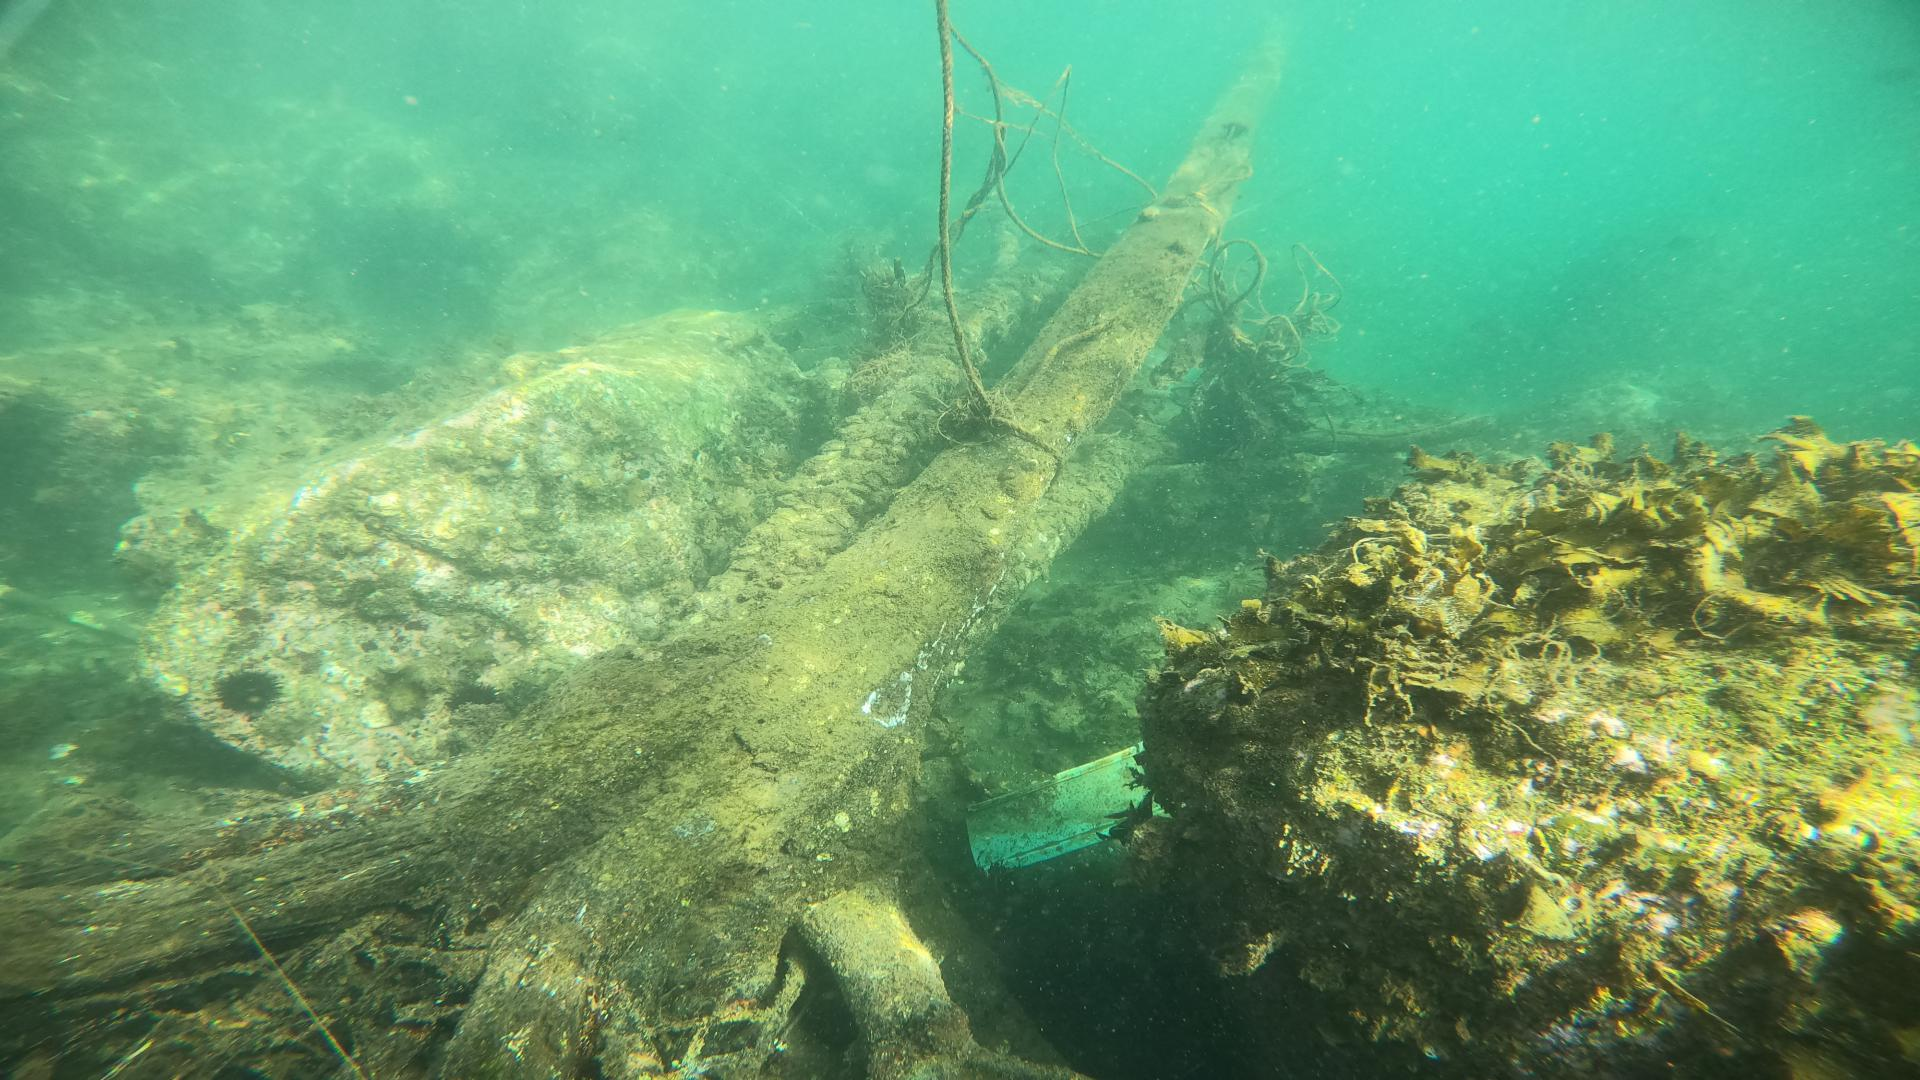bundle of ropes: (898, 0, 1345, 485)
wood: (0, 26, 1282, 1080)
